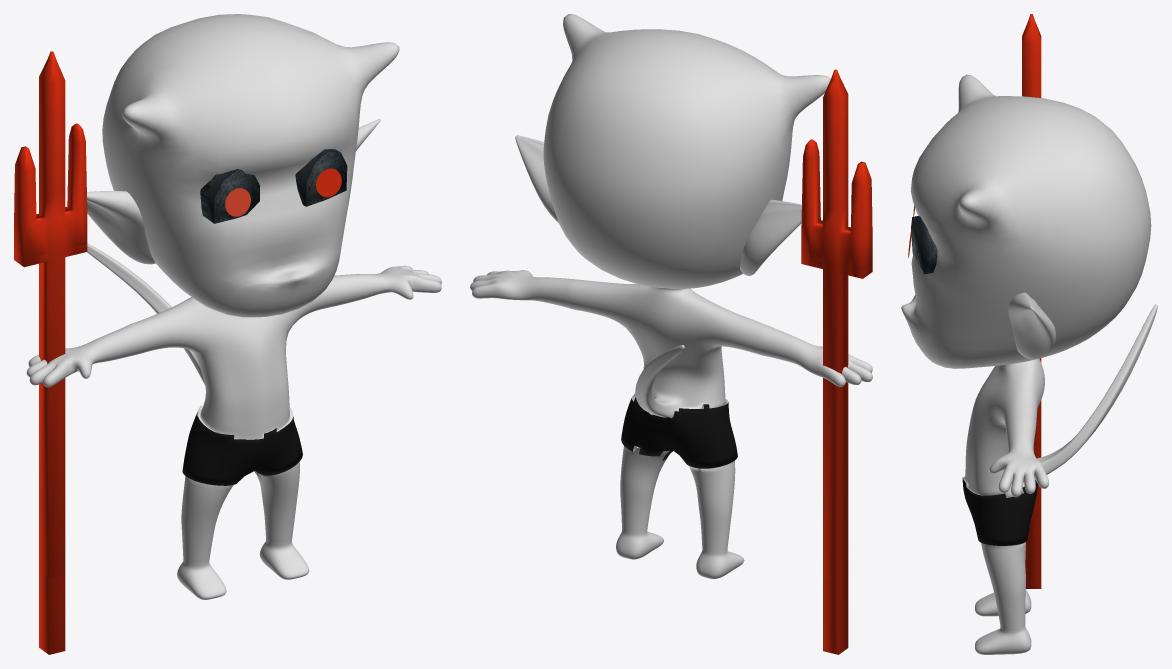
File: pikoy.fbx
3 views of the same model, side by side, from view 1: azimuth 30°, elevation 25°; view 2: azimuth 150°, elevation 25°; view 3: azimuth 270°, elevation 25° (orthographic). The views are drawn at different scales.
Parts seen in each view (by area): view 1: Circle.003, Plane.023; view 2: Circle.003, Plane.023; view 3: Circle.003, Plane.023.
Part boxes in pixels (box(x1,y1,x2,y2)): Circle.003: box(26, 14, 441, 599); Plane.023: box(14, 51, 87, 654); Circle.003: box(470, 14, 872, 579); Plane.023: box(801, 69, 872, 654); Circle.003: box(901, 74, 1157, 654); Plane.023: box(1022, 14, 1041, 588).
Bounding box in the file's own units: 76.98 × 106 × 43.21.
